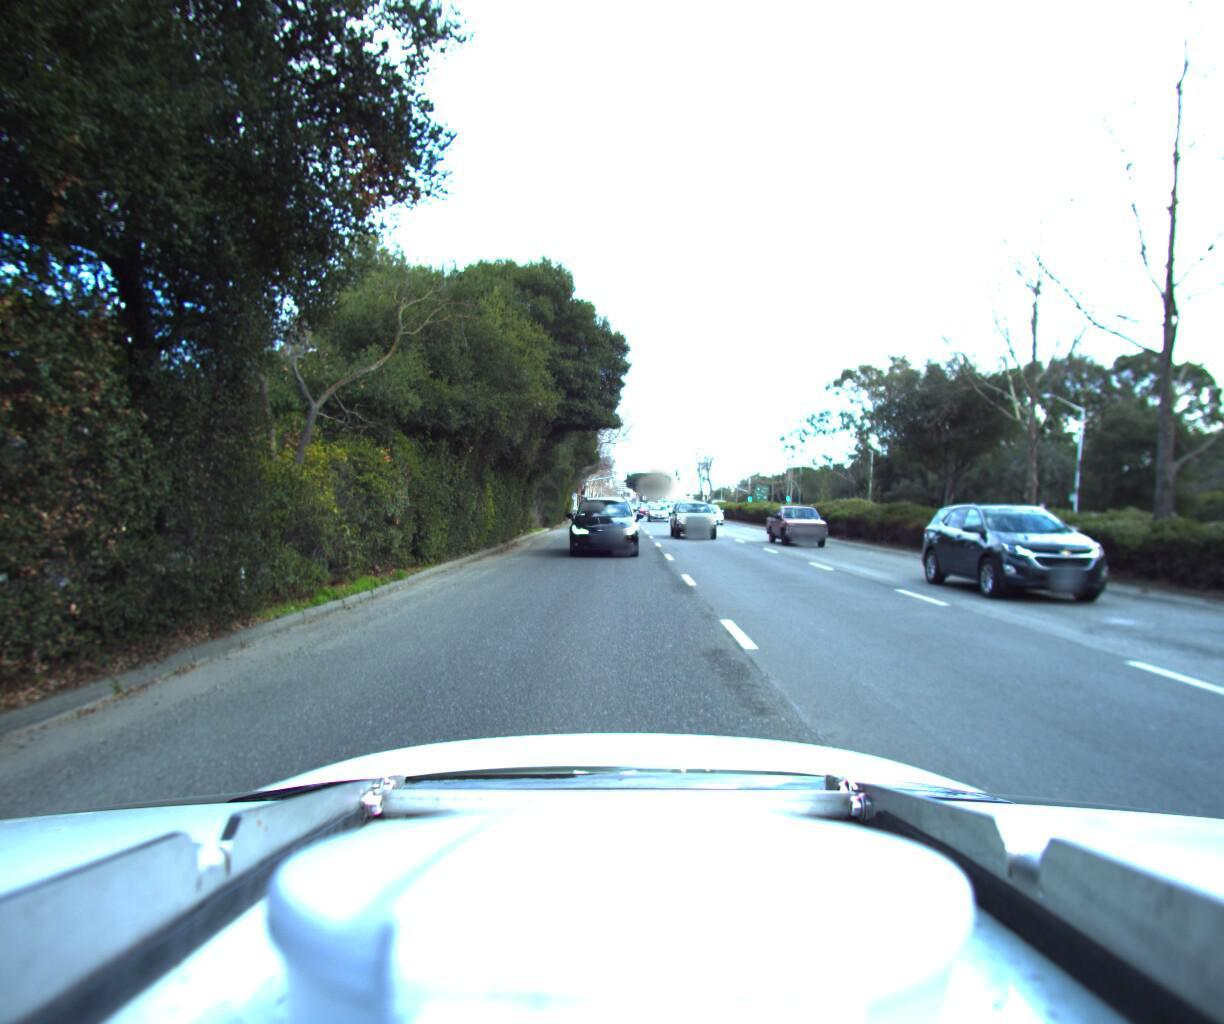car: (932, 493, 1182, 612), (563, 483, 637, 552), (766, 495, 843, 543), (669, 490, 720, 535), (697, 497, 728, 519), (644, 495, 672, 517)
